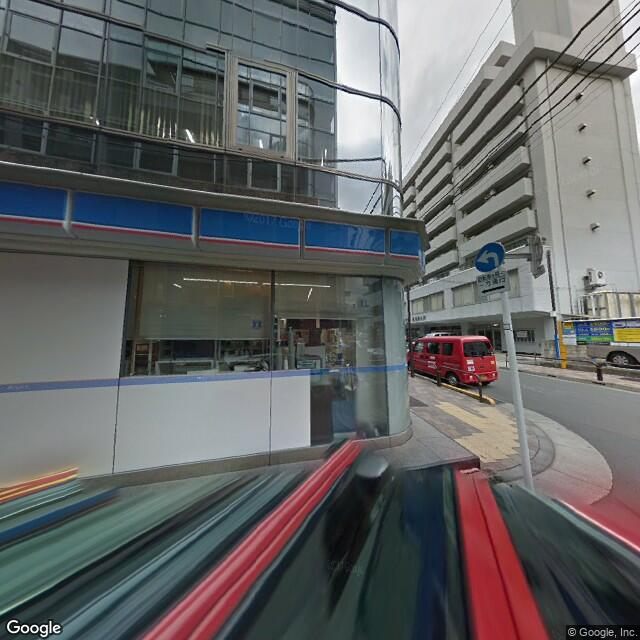lawson: (1, 167, 425, 284)
